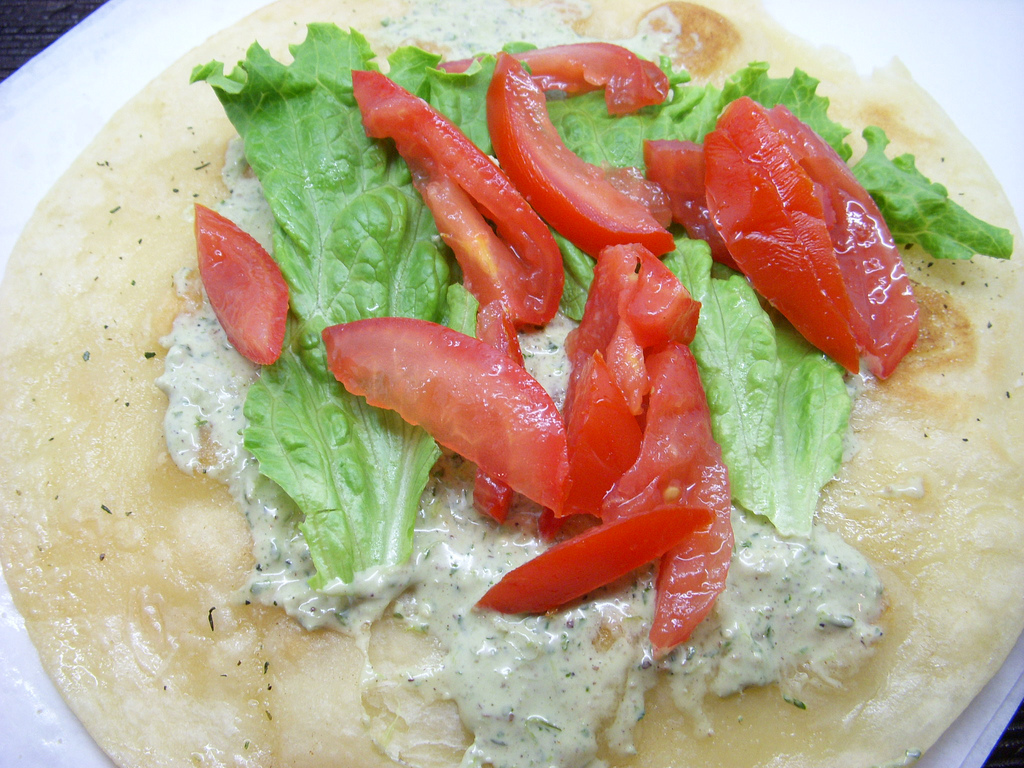chopped lettuce: (247, 53, 447, 576), (719, 276, 827, 538), (575, 107, 693, 161)
